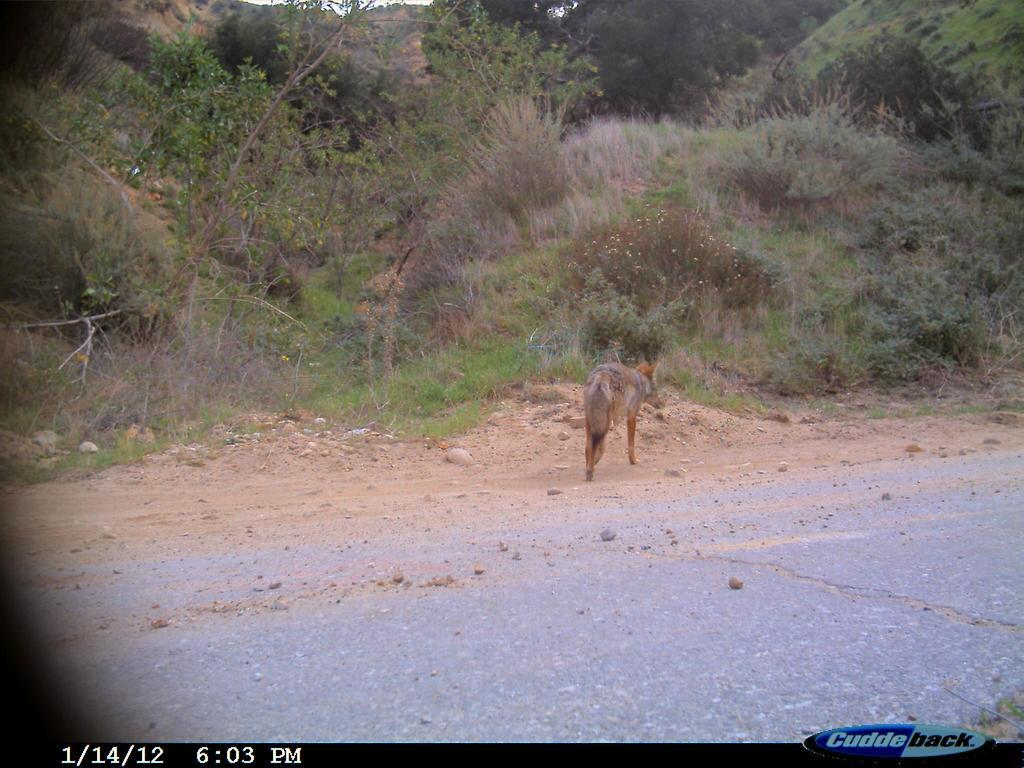coyote: (579, 351, 666, 484)
